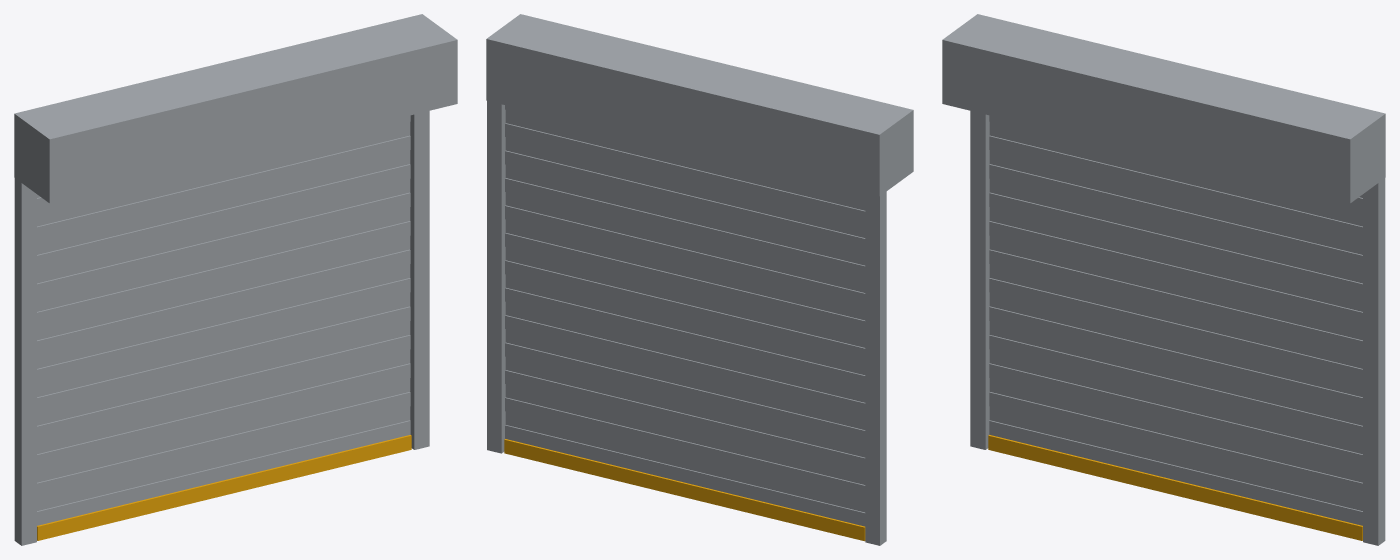
Rendered from opening.door.shutter_2400x2400.glb.
The picture shows the model from 3 angles, left to right: view 1: azimuth 30°, elevation 25°; view 2: azimuth 150°, elevation 25°; view 3: azimuth 330°, elevation 25°; orthographic projection. The views are drawn at different scales.
Parts seen in each view (by area): view 1: leaf__steel_galvanised, frame__steel_galvanised, leaf__plant_yellow; view 2: leaf__steel_galvanised, frame__steel_galvanised, leaf__plant_yellow; view 3: leaf__steel_galvanised, frame__steel_galvanised, leaf__plant_yellow.
Boxes of the visible parts, box(x1,y1,x2,y2) form: leaf__steel_galvanised: box(37, 115, 410, 525); frame__steel_galvanised: box(14, 14, 457, 545); leaf__plant_yellow: box(37, 435, 411, 540); leaf__steel_galvanised: box(505, 105, 865, 526); frame__steel_galvanised: box(486, 14, 913, 545); leaf__plant_yellow: box(504, 439, 865, 541); leaf__steel_galvanised: box(989, 115, 1362, 525); frame__steel_galvanised: box(942, 14, 1385, 545); leaf__plant_yellow: box(988, 435, 1362, 540).
Size of the model in its own units: 2.4 by 2.4 by 0.36.
